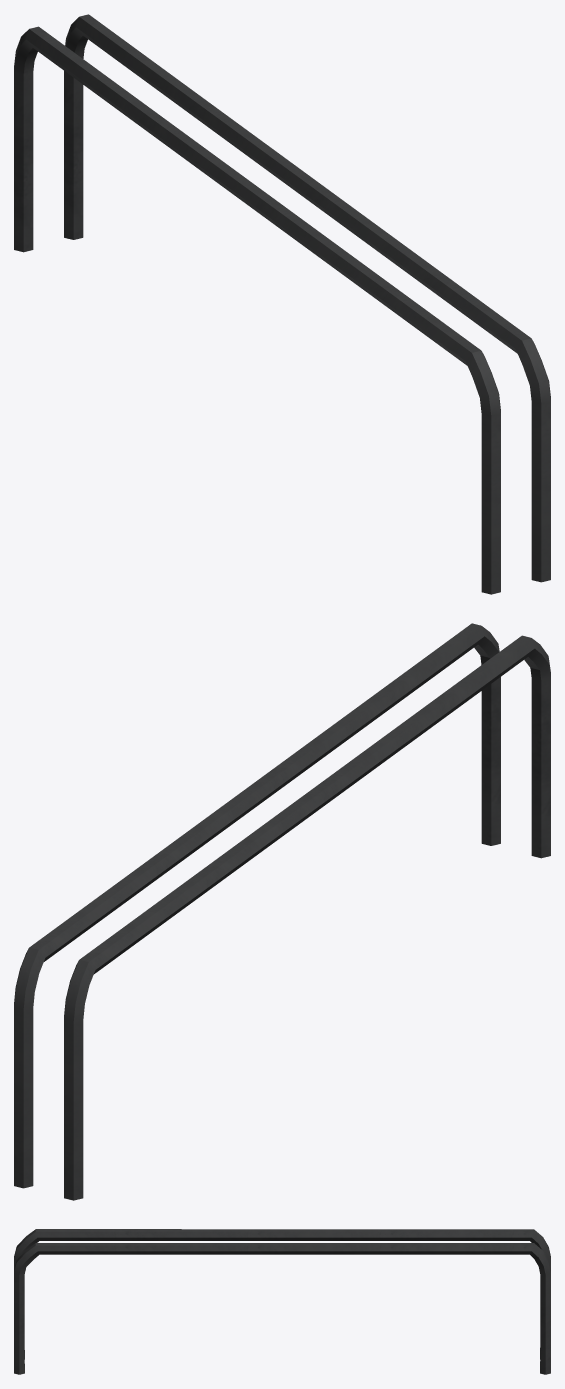
File: Handrails_4.fbx
3 renders of one model, top to bottom at view 1: azimuth 30°, elevation 25°; view 2: azimuth 150°, elevation 25°; view 3: azimuth 270°, elevation 25°, orthographic. The views are drawn at different scales.
Parts seen in each view (by area): view 1: Handrails_4; view 2: Handrails_4; view 3: Handrails_4.
Part boxes in pixels (x1,y1,x2,y2): Handrails_4: (14, 14, 550, 594); Handrails_4: (14, 623, 550, 1200); Handrails_4: (14, 1229, 550, 1374).
Size of the model in its own units: 0.3584 by 1.12 by 4.27.
